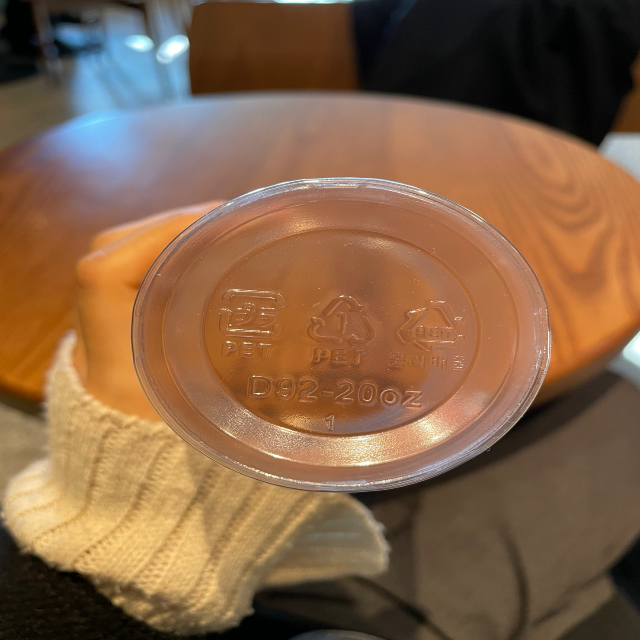pet: (384, 293, 476, 376), (207, 279, 292, 364), (305, 286, 382, 373)
